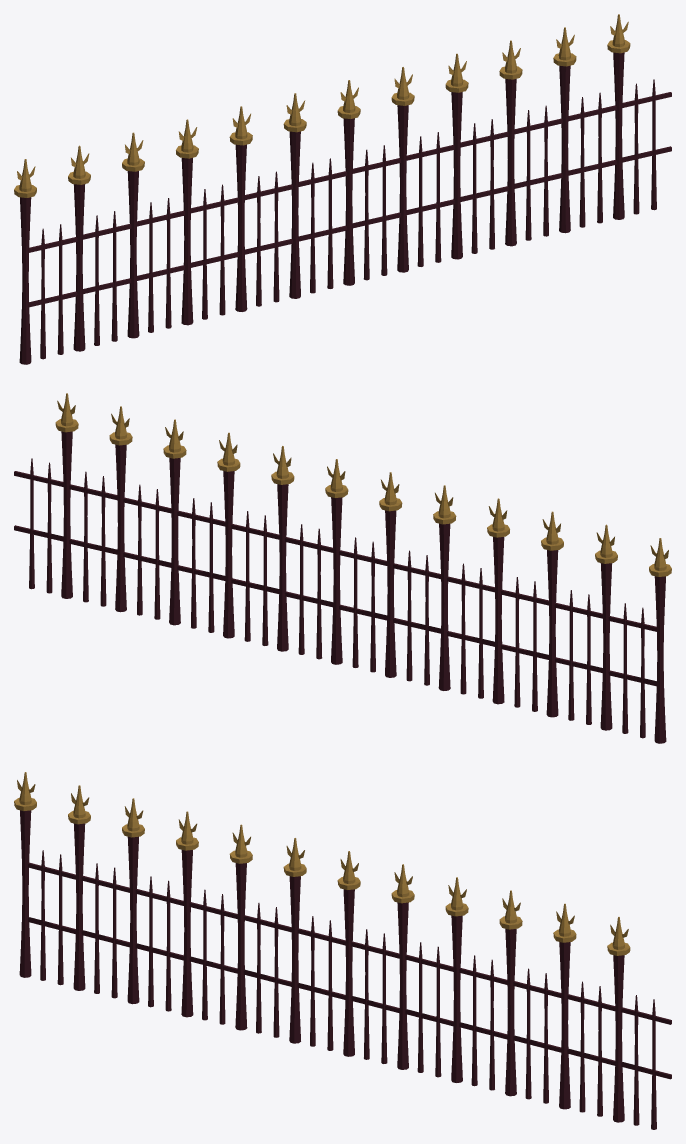
The model's file is Fence.glb.
3 views of the same model, one above another, from view 1: azimuth 30°, elevation 25°; view 2: azimuth 150°, elevation 25°; view 3: azimuth 330°, elevation 25° (orthographic).
Visible parts, largest first — view 1: Fence; view 2: Fence; view 3: Fence.
Boxes of the visible parts, x1,y1,x2,y2 form: Fence: [14, 14, 671, 364]; Fence: [14, 393, 671, 743]; Fence: [14, 772, 671, 1129].
Size of the model in its own units: 37.29 by 11.04 by 1.08.
1 material, 1 textured.
